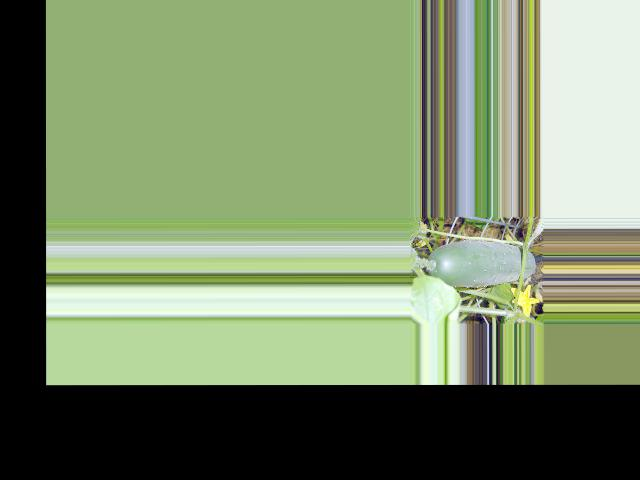cucumber: (425, 240, 534, 286)
